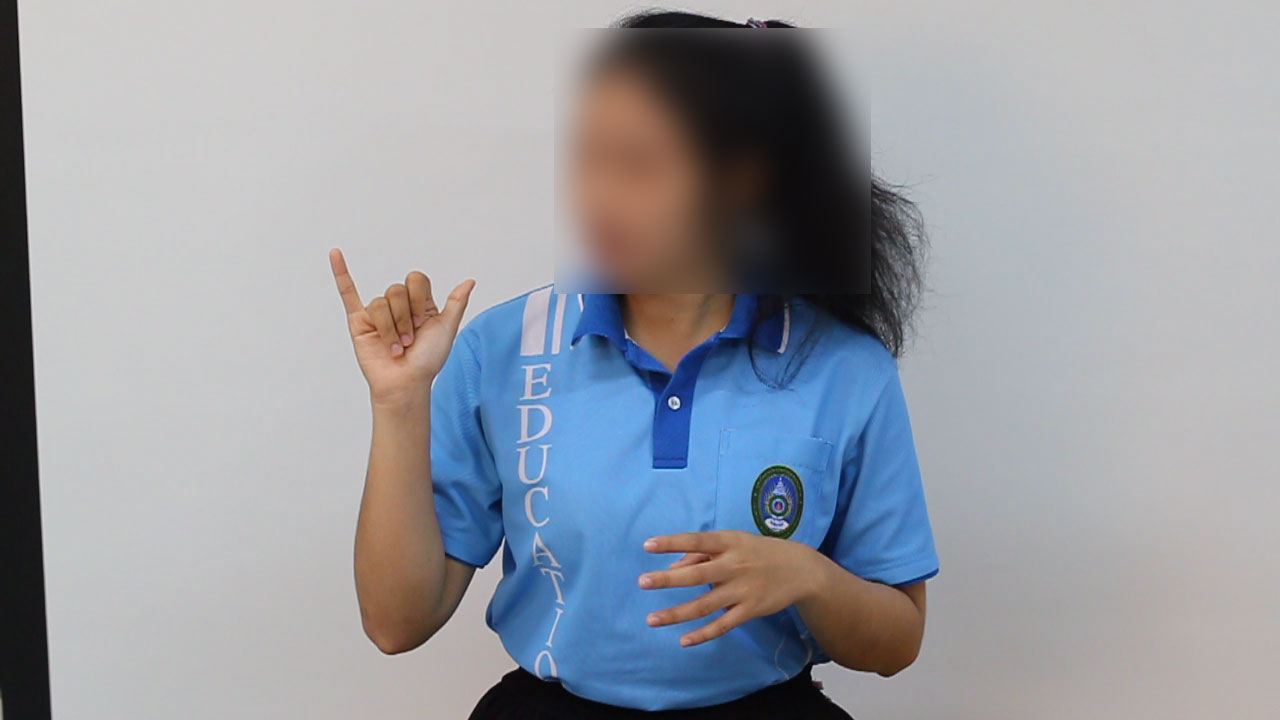yor: (318, 240, 491, 410)
